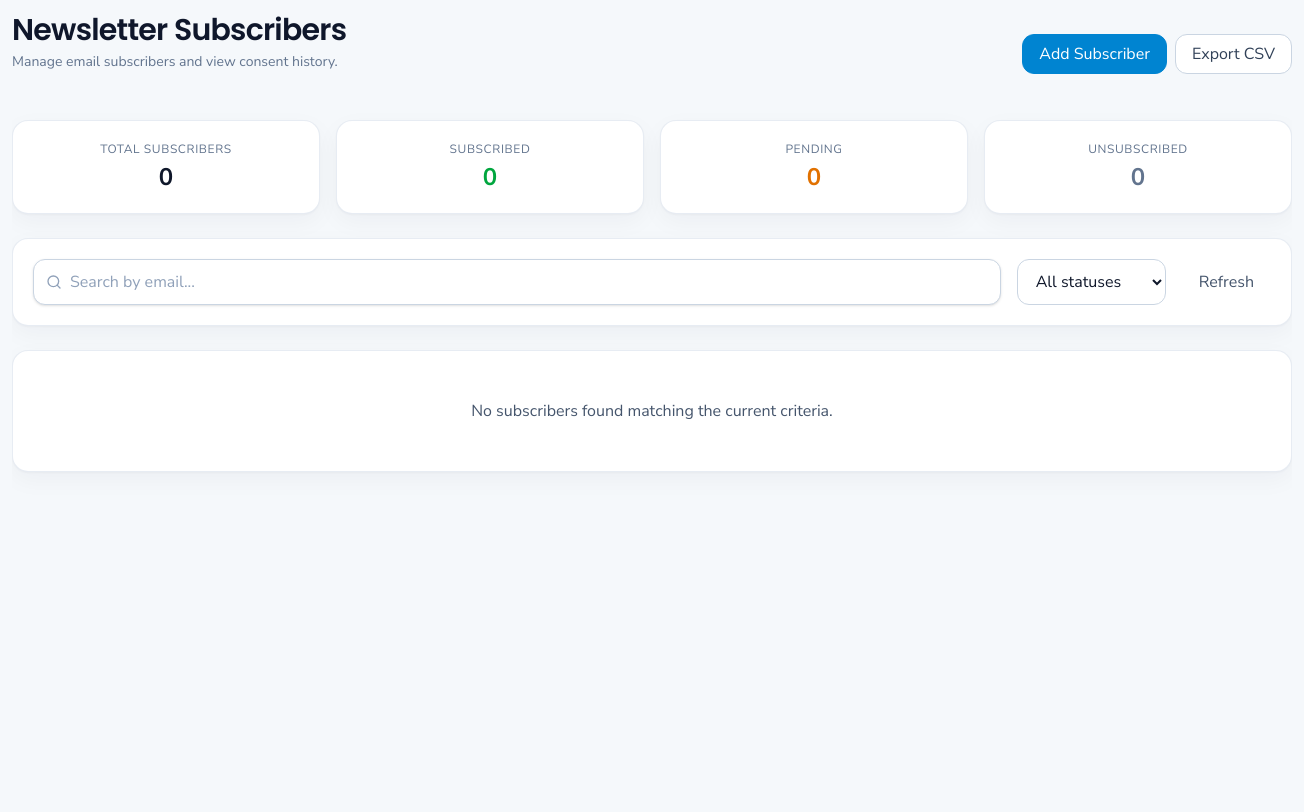
Scenario: subscriber CSV export › does not download a non-CSV success response and shows a safe error
This screenshot has width=1304, height=812.
Step 1. Click the button "Export CSV" → [1233, 54], box left=1175, top=34, right=1292, bottom=74
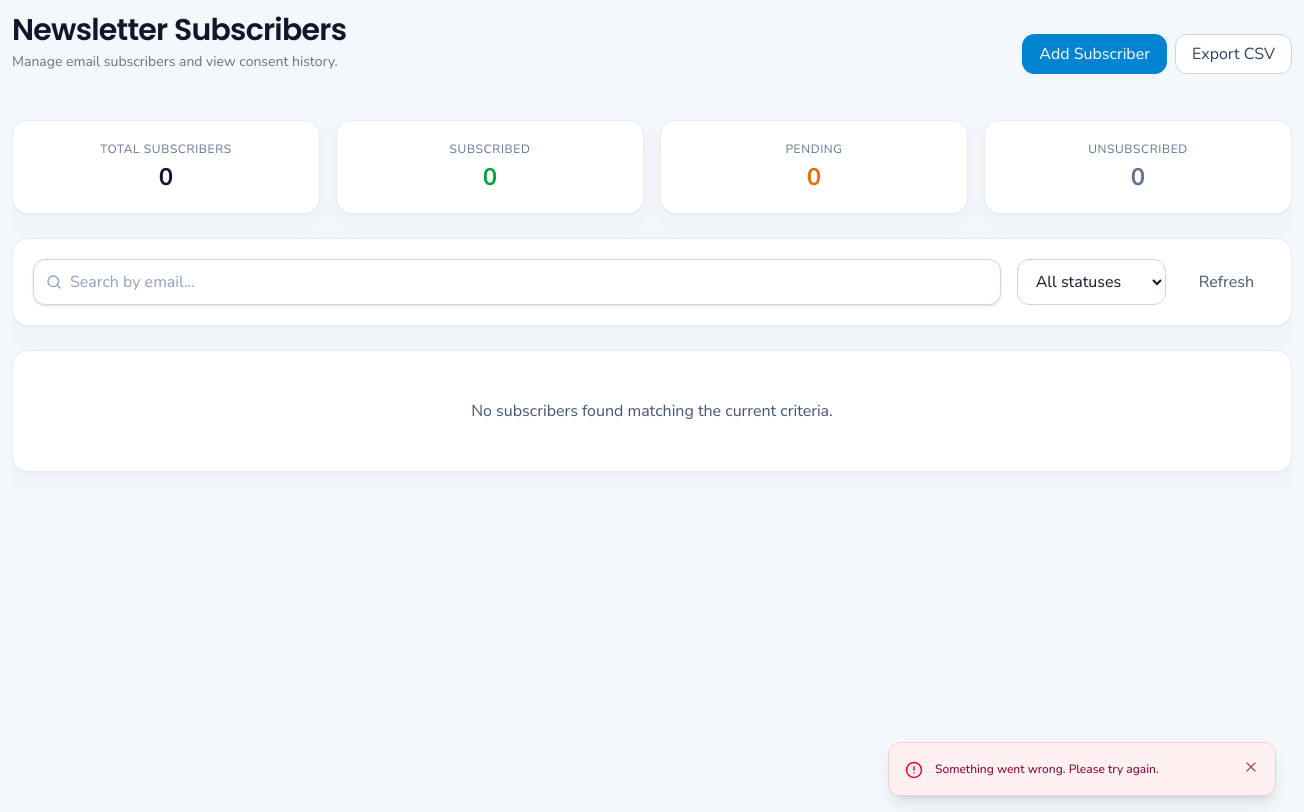
Now the text "Something went wrong. Please try again." is shown, box left=935, top=761, right=1159, bottom=777
